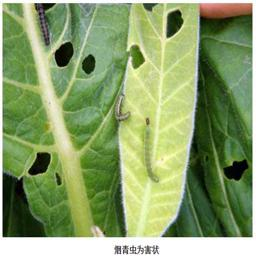Tobacco_budworm: (142, 127, 159, 183), (113, 93, 130, 120)
